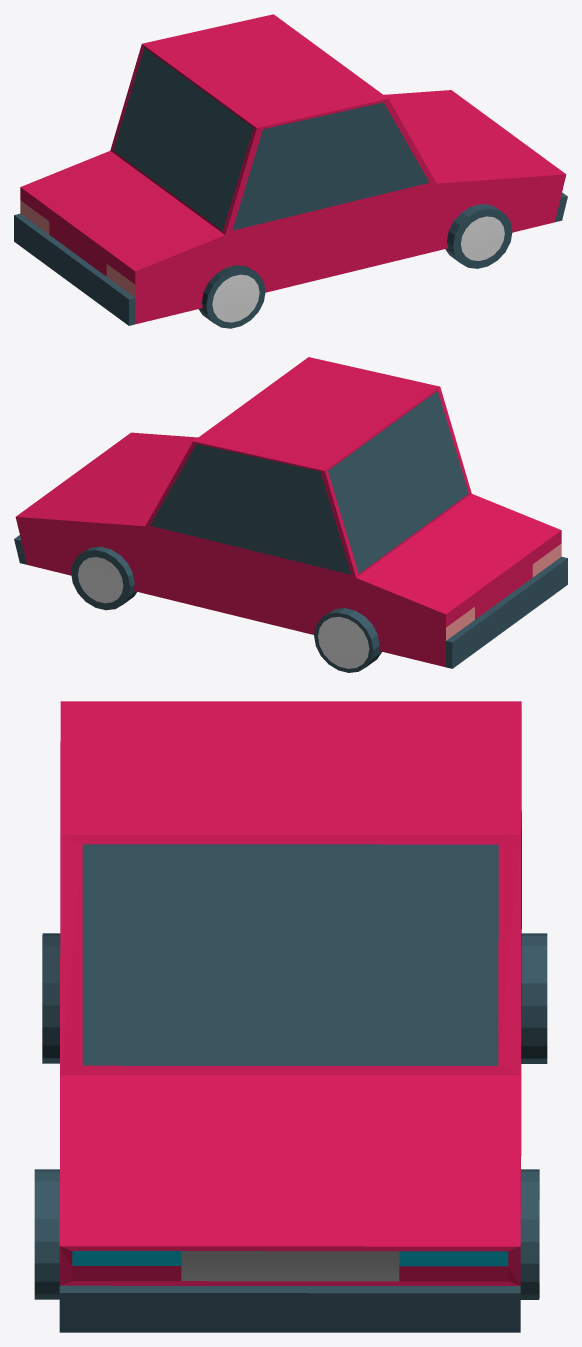
The model's file is car_4_2.dae.
The picture shows the model from 3 angles, top to bottom: view 1: azimuth 30°, elevation 25°; view 2: azimuth 150°, elevation 25°; view 3: azimuth 270°, elevation 25°; orthographic projection. The views are drawn at different scales.
Parts seen in each view (by area): view 1: Car_04.1_1.001; view 2: Car_04.1_1.001; view 3: Car_04.1_1.001.
Boxes of the visible parts, box(x1,y1,x2,y2) form: Car_04.1_1.001: box(14, 14, 567, 328); Car_04.1_1.001: box(14, 357, 567, 672); Car_04.1_1.001: box(34, 701, 547, 1332).
Size of the model in its own units: 4.42 by 2.24 by 1.83.
Materials: 1 (1 with a texture image).
